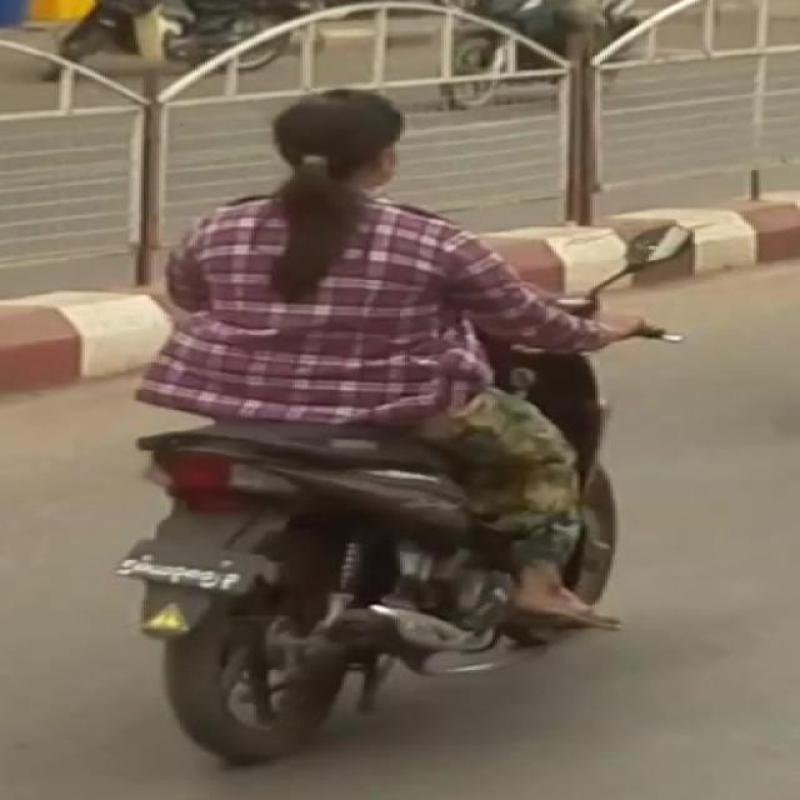nohelmet: (234, 77, 448, 200), (127, 531, 278, 604)
